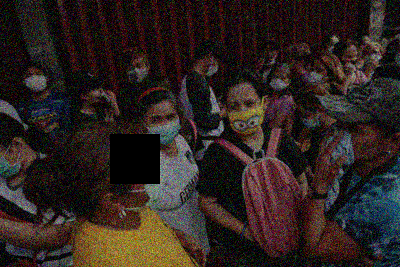mask_weared_incorrect: (88, 87, 107, 106), (263, 46, 277, 65)
with_mask: (127, 157, 168, 209), (334, 119, 381, 163), (229, 96, 265, 137), (147, 110, 181, 145), (1, 148, 23, 179), (298, 108, 321, 133), (25, 69, 48, 93), (128, 61, 149, 84), (308, 65, 328, 86), (270, 72, 288, 92), (342, 49, 358, 67), (365, 49, 380, 65), (208, 61, 220, 77)
